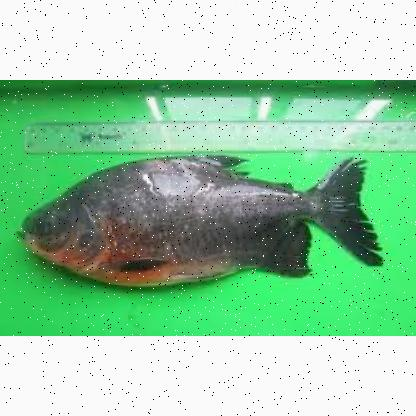ikan-pacu: (15, 150, 374, 288)
